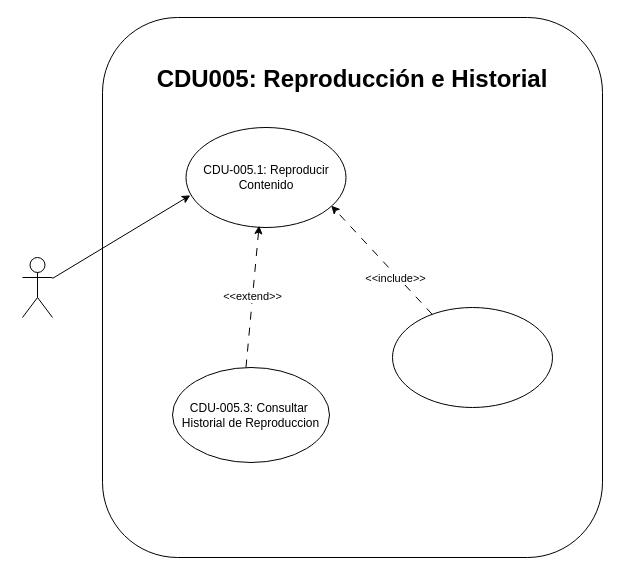
Image size: 620x575. Some labels were removed from this diagram. Here are the shapes that lost their labels. From the top down, the centre of each, then its label:
At point (37, 287): "Usuario".
At point (472, 357): "CDU-005.2: Reanudar Reproduccion".
